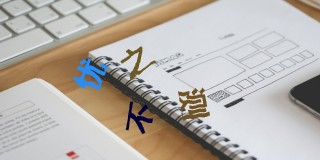不: (125, 100, 155, 135)
之: (121, 45, 157, 80)
忧: (73, 57, 110, 90)
测: (176, 85, 211, 121)
